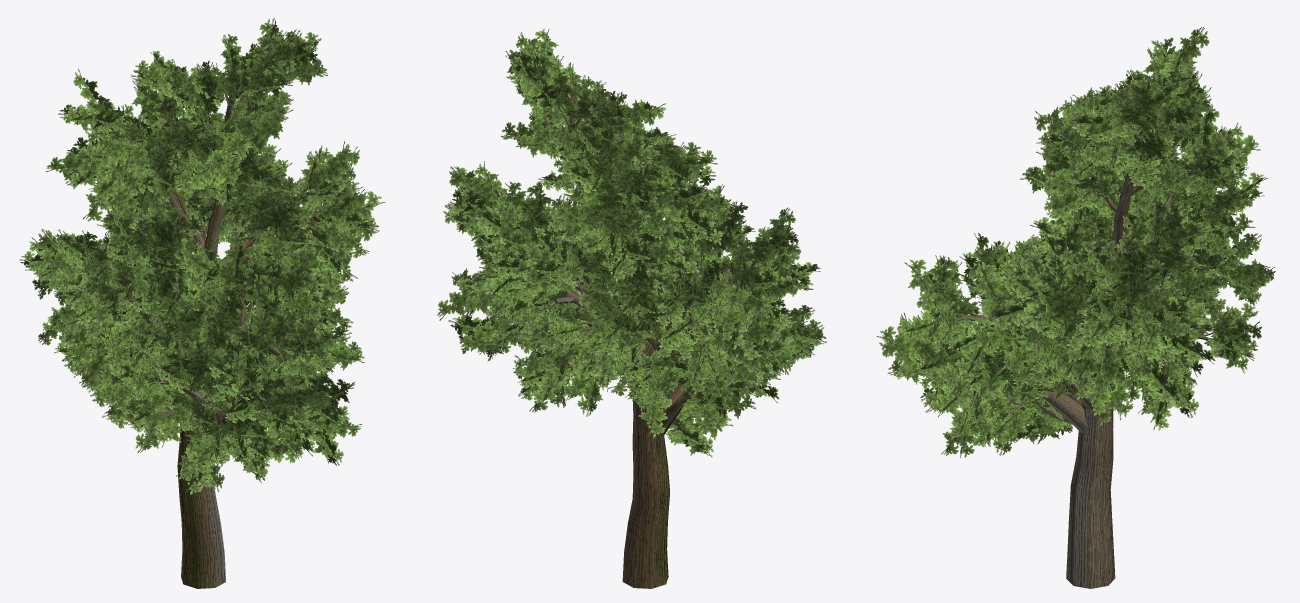
The model's file is eztree-white-oak-stand-b.glb.
3 renders of one model, left to right at view 1: azimuth 30°, elevation 25°; view 2: azimuth 150°, elevation 25°; view 3: azimuth 270°, elevation 25°, orthographic. The views are drawn at different scales.
Visible parts, largest first — view 1: eztree-white-oak-stand-b; view 2: eztree-white-oak-stand-b; view 3: eztree-white-oak-stand-b.
Part boxes in pixels (bbox=[...]): eztree-white-oak-stand-b: bbox=[19, 18, 385, 588]; eztree-white-oak-stand-b: bbox=[437, 28, 826, 588]; eztree-white-oak-stand-b: bbox=[876, 27, 1275, 588].
Bounding box in the file's own units: 52.42 × 74.82 × 51.33.
2 materials, 2 textured.
